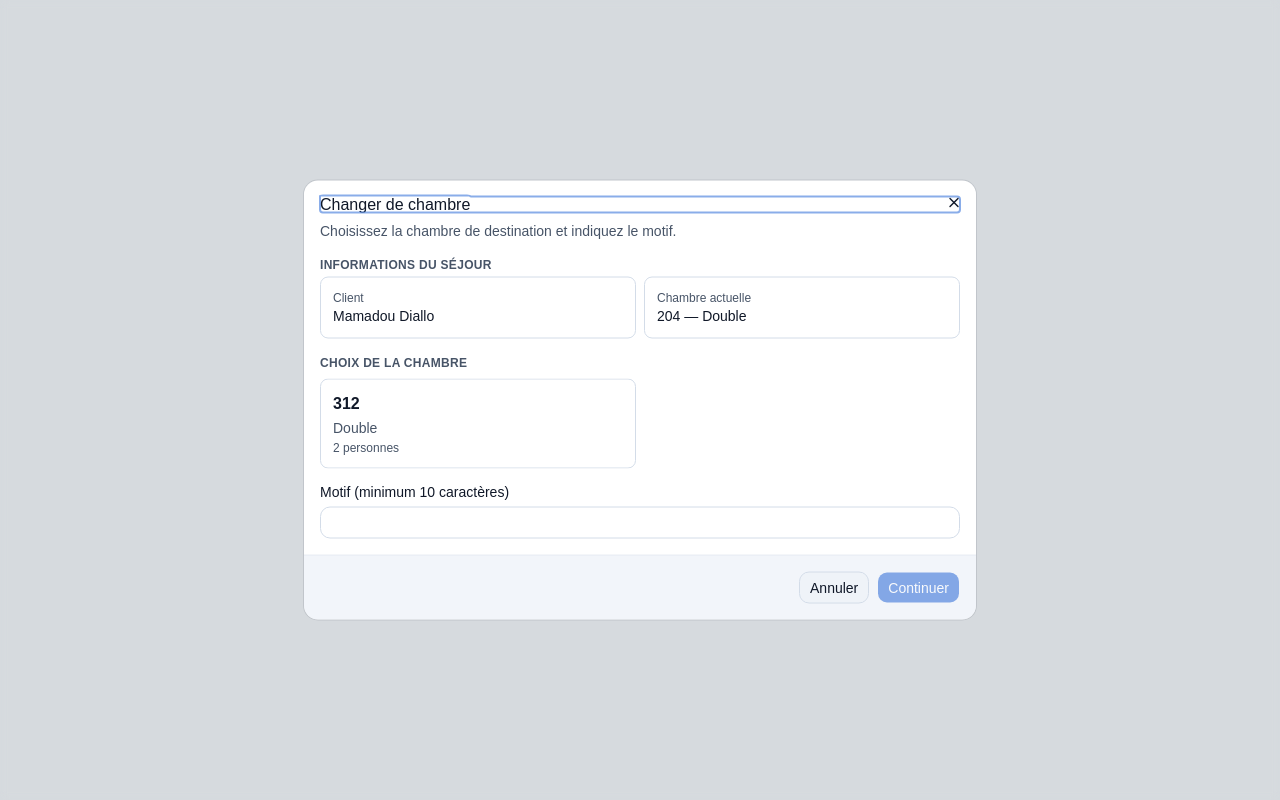
Test: ChangeRoomDialog — impact tarifaire (DESIGN-009B) › affiche la hausse tarifaire renvoyée par le serveur (jamais recalculée côté client)
The image size is (1280, 800).
Click the button "312 Double 2 personnes". click: (355, 428)
box: [320, 378, 636, 468]
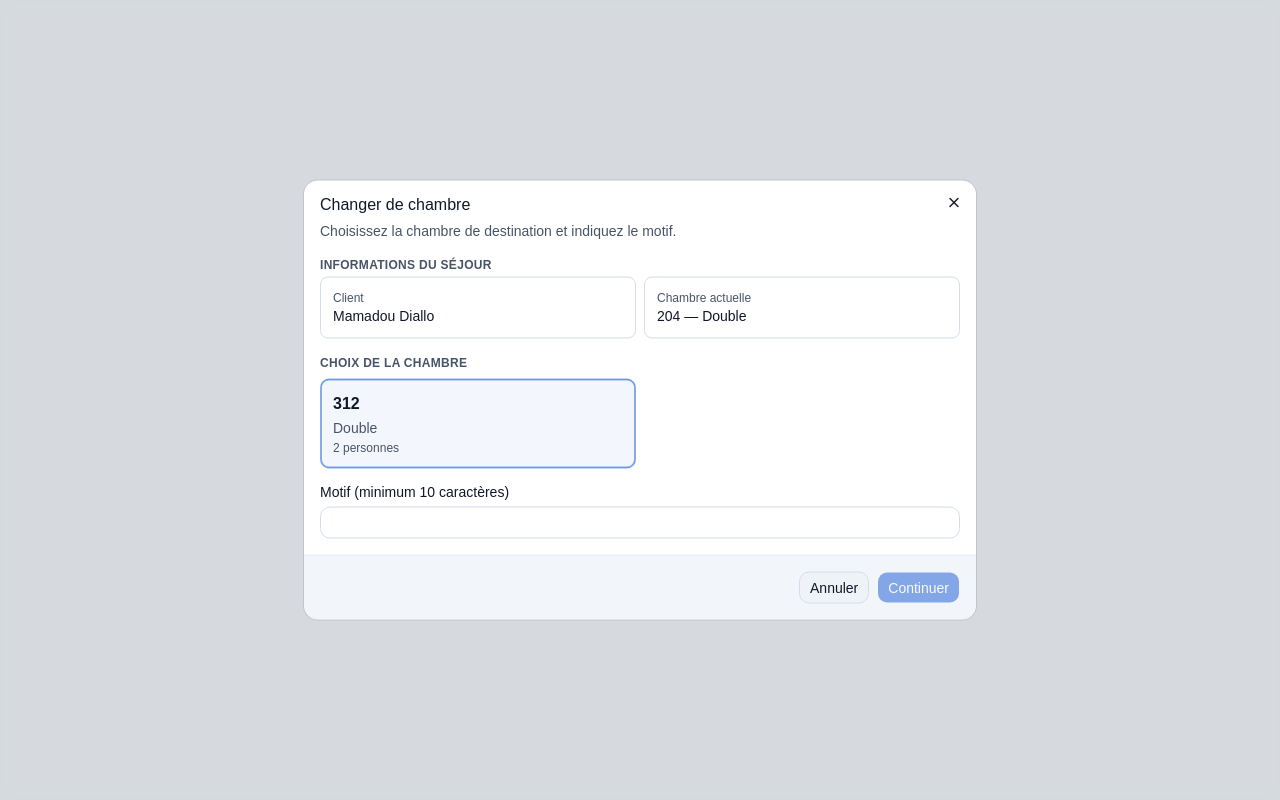
Type "Demande du client" into the field labelled "Motif (minimum 10 caractères)". click: (640, 522)
box: [320, 506, 960, 538]
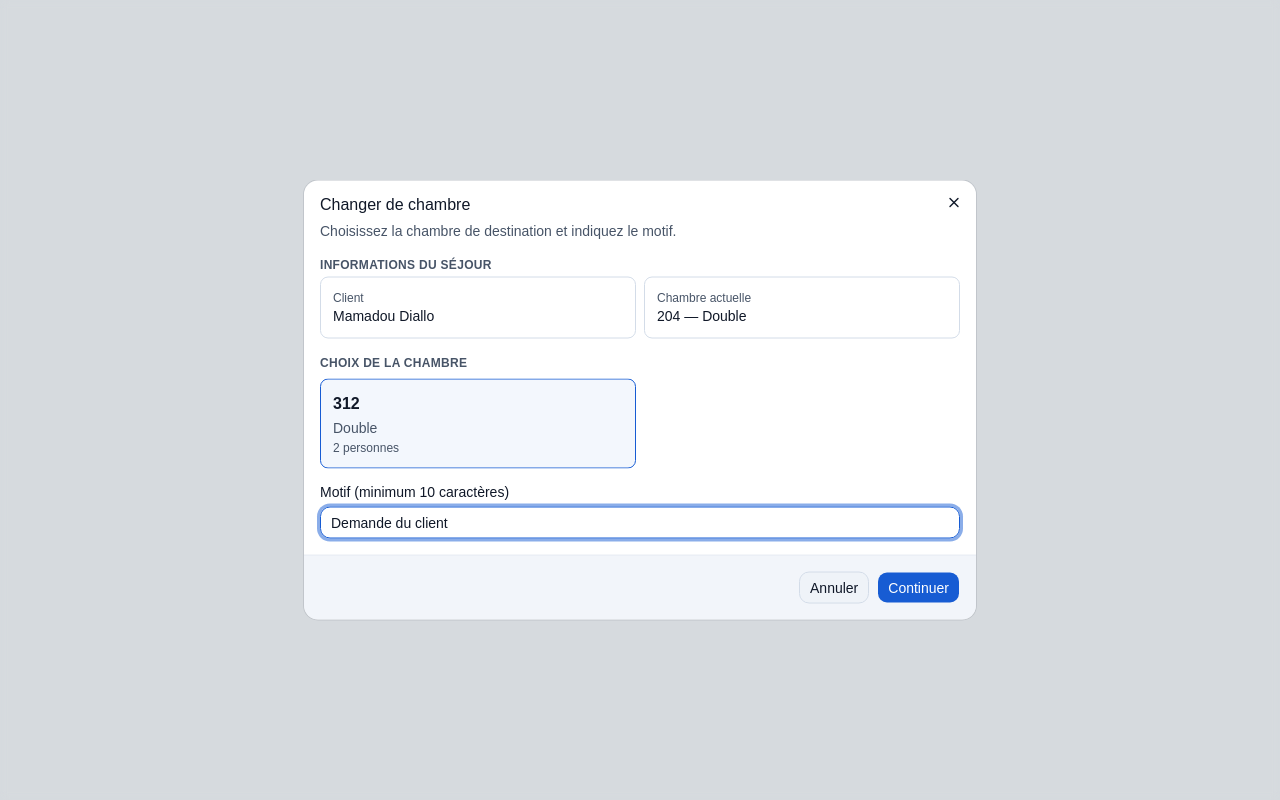
Click the button "Continuer". click: (919, 588)
box: [877, 572, 960, 604]
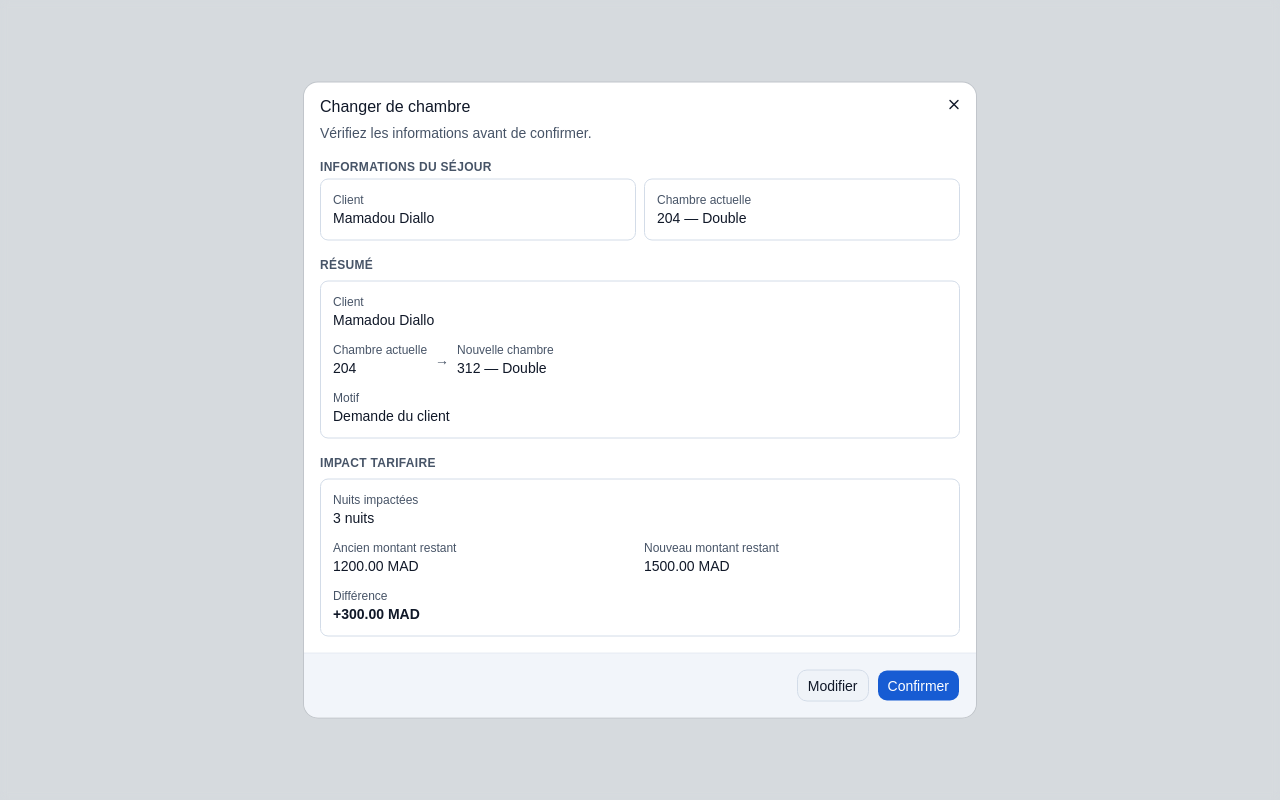
Check: the text "1200.00 MAD" is shown, box [333, 558, 419, 574]
Check: the text "1500.00 MAD" is shown, box [644, 558, 730, 574]
Check: the text "+300.00 MAD" is shown, box [333, 606, 420, 622]
